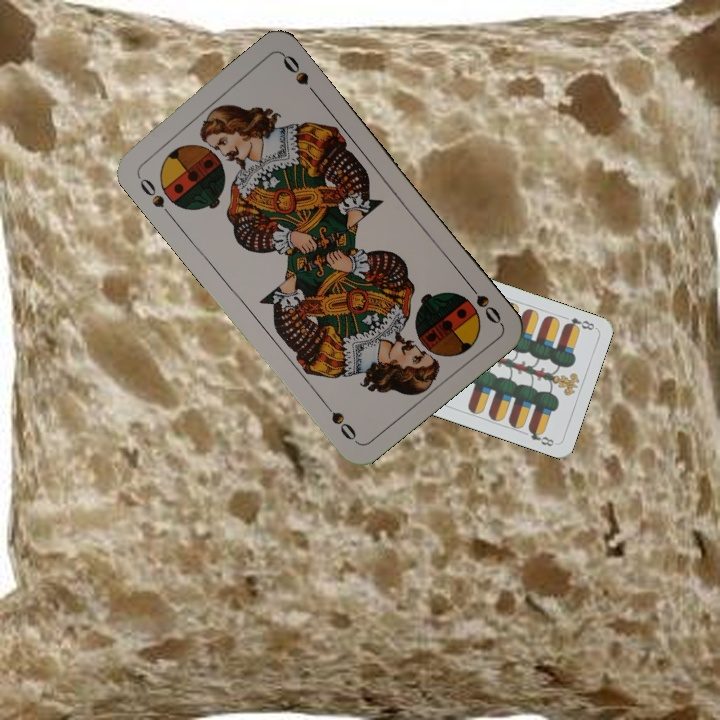E8: (560, 313, 597, 333)
SO: (461, 276, 504, 327), (133, 169, 168, 211)
